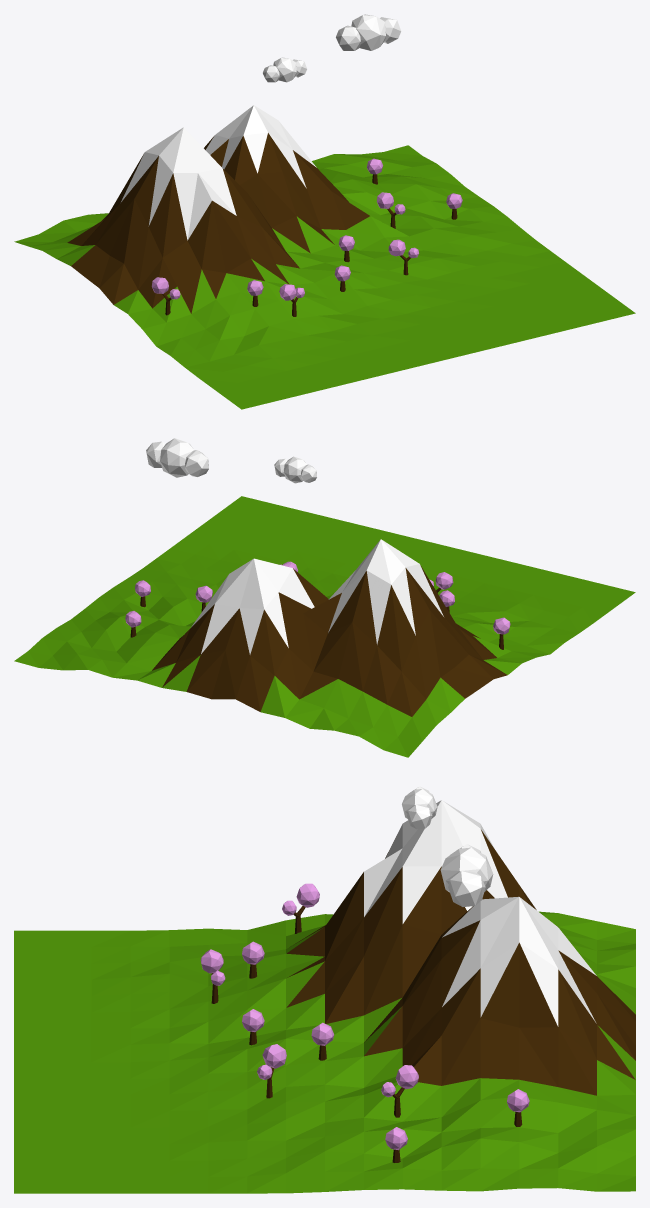
The model's file is lowpoly_environment1.fbx.
3 renders of one model, top to bottom at view 1: azimuth 30°, elevation 25°; view 2: azimuth 150°, elevation 25°; view 3: azimuth 270°, elevation 25°, orthographic. The views are drawn at different scales.
Parts seen in each view (by area): view 1: Plane, Icosphere_005, Icosphere_004; view 2: Plane, Icosphere_005, Icosphere_004; view 3: Plane, Icosphere_005, Icosphere_004, Icosphere_002, Icosphere_003, Icosphere_001, Icosphere_000.
Part boxes in pixels (x1,y1,x2,y2): Plane: [14, 105, 635, 409]; Icosphere_005: [336, 14, 401, 50]; Icosphere_004: [263, 57, 306, 82]; Plane: [14, 496, 635, 757]; Icosphere_005: [146, 438, 208, 477]; Icosphere_004: [274, 456, 316, 483]; Plane: [14, 800, 635, 1193]; Icosphere_005: [440, 844, 493, 906]; Icosphere_004: [402, 786, 437, 829]; Icosphere_002: [381, 1065, 418, 1117]; Icosphere_003: [282, 883, 319, 933]; Icosphere_001: [257, 1044, 286, 1098]; Icosphere_000: [200, 949, 225, 1003].
Bounding box in the file's own units: 14.48 × 7.08 × 14.48.
